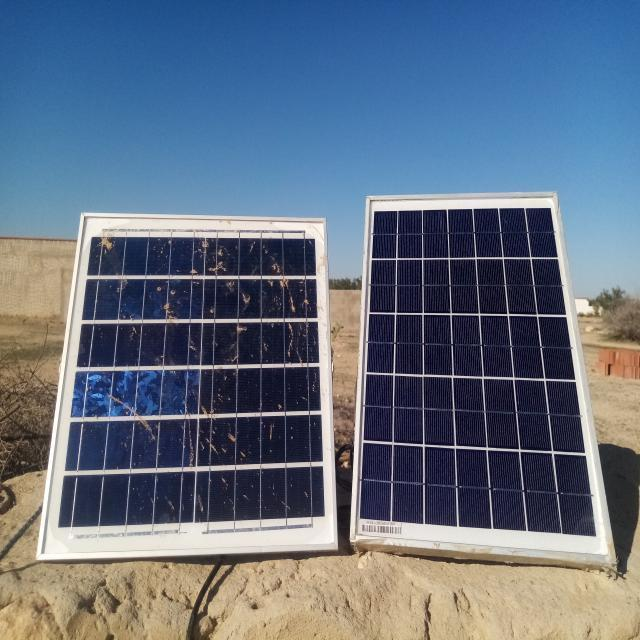Normal Solar Panel: (349, 192, 615, 566)
